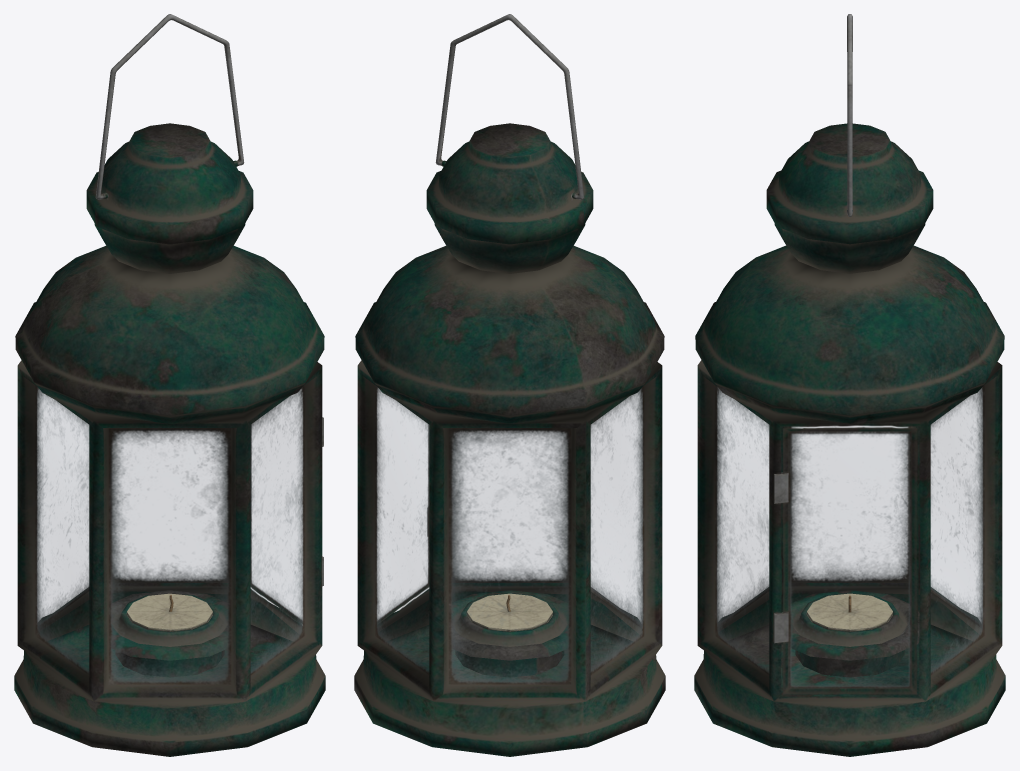
File: obj_metal_hanging_lantern_1bdbe7.glb
3 views of the same model, side by side, from view 1: azimuth 30°, elevation 25°; view 2: azimuth 150°, elevation 25°; view 3: azimuth 270°, elevation 25° (orthographic).
Visible parts, largest first — view 1: obj_metal_hanging_lantern_1bdbe7; view 2: obj_metal_hanging_lantern_1bdbe7; view 3: obj_metal_hanging_lantern_1bdbe7.
Part boxes in pixels (left/top/right/bottom): obj_metal_hanging_lantern_1bdbe7: left=14, top=14, right=325, bottom=756; obj_metal_hanging_lantern_1bdbe7: left=354, top=14, right=665, bottom=756; obj_metal_hanging_lantern_1bdbe7: left=694, top=14, right=1005, bottom=756.
Size of the model in its own units: 0.1485 by 0.35 by 0.1463.
1 material, 1 textured.
